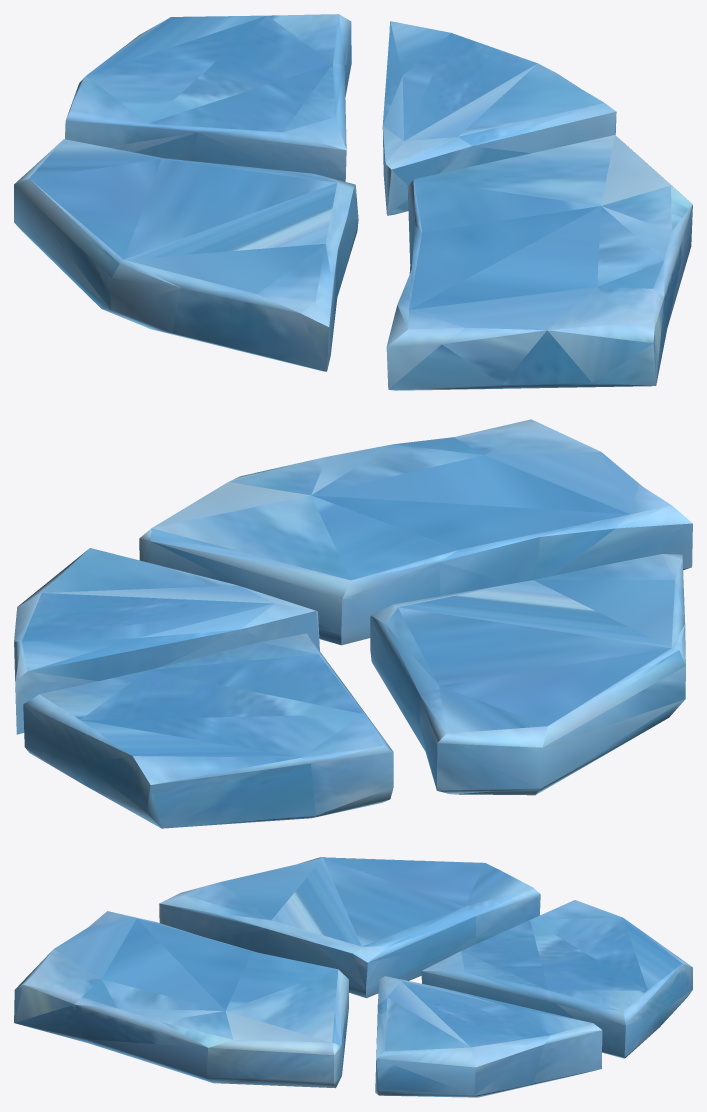
File: placa_hielo_rota_300.glb
3 views of the same model, one above another, from view 1: azimuth 30°, elevation 25°; view 2: azimuth 150°, elevation 25°; view 3: azimuth 270°, elevation 25° (orthographic). The views are drawn at different scales.
Parts seen in each view (by area): view 1: placa_hielo_rota_malla; view 2: placa_hielo_rota_malla; view 3: placa_hielo_rota_malla.
Part boxes in pixels (x1,y1,x2,y2): placa_hielo_rota_malla: [14, 14, 692, 390]; placa_hielo_rota_malla: [14, 419, 692, 828]; placa_hielo_rota_malla: [14, 857, 692, 1097].
Size of the model in its own units: 0.2611 by 0.0278 by 0.371.
Materials: 1 (1 with a texture image).
